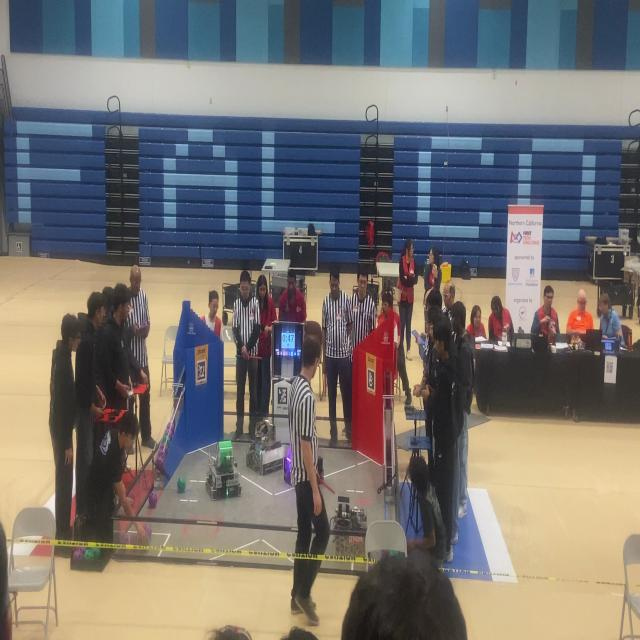artifact_green: (156, 449, 165, 472), (144, 523, 151, 542), (177, 477, 185, 493), (130, 532, 139, 546), (120, 532, 130, 544), (162, 435, 171, 447), (168, 422, 175, 437), (74, 548, 83, 559), (90, 548, 98, 560), (84, 548, 92, 559), (94, 548, 101, 559)
artifact_purple: (155, 453, 165, 471), (156, 451, 165, 467), (149, 492, 157, 509), (162, 434, 171, 448), (158, 442, 167, 456), (158, 437, 166, 452), (120, 532, 130, 544), (160, 452, 166, 470), (145, 523, 151, 540), (74, 548, 83, 559), (169, 422, 175, 438), (130, 533, 138, 545), (84, 549, 92, 559), (161, 446, 167, 459), (164, 423, 170, 435)
